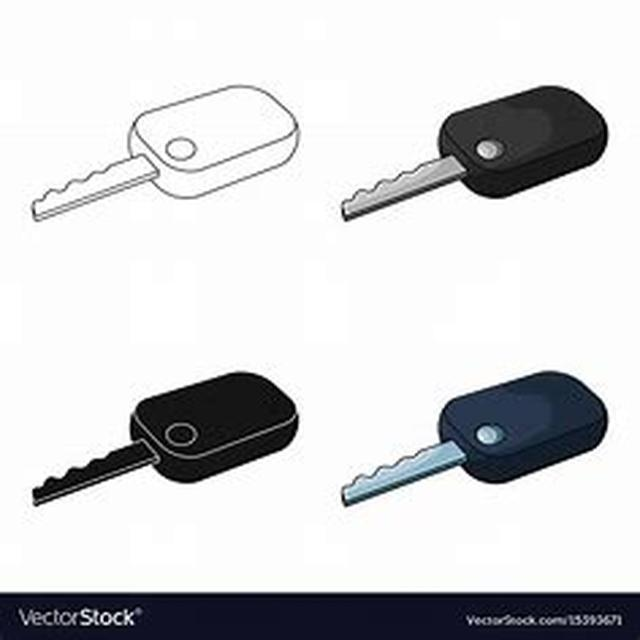key: (23, 381, 308, 524), (366, 370, 616, 519), (35, 94, 307, 226), (359, 86, 601, 225)
